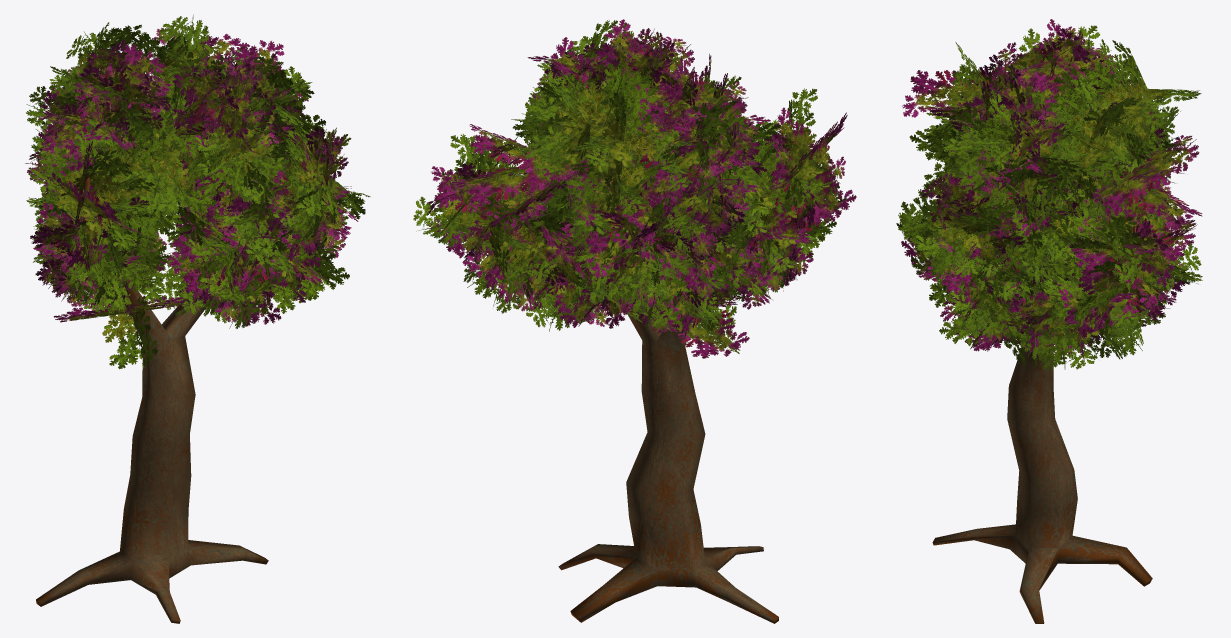
The model's file is test_tree.glb.
3 views of the same model, side by side, from view 1: azimuth 30°, elevation 25°; view 2: azimuth 150°, elevation 25°; view 3: azimuth 270°, elevation 25° (orthographic). The views are drawn at different scales.
Visible parts, largest first — view 1: branches-green-03, branches-purple-03, tree-low-03; view 2: branches-green-03, branches-purple-03, tree-low-03; view 3: branches-green-03, branches-purple-03, tree-low-03.
Boxes of the visible parts, x1,y1,x2,y2 form: branches-green-03: [26, 14, 370, 369]; branches-purple-03: [25, 27, 358, 326]; tree-low-03: [36, 164, 302, 623]; branches-green-03: [413, 20, 846, 353]; branches-purple-03: [427, 19, 856, 358]; tree-low-03: [509, 139, 798, 623]; branches-green-03: [896, 25, 1202, 370]; branches-purple-03: [901, 19, 1202, 359]; tree-low-03: [932, 80, 1152, 623].
Size of the model in its own units: 10.14 by 15 by 8.21.
2 materials, 2 textured.
